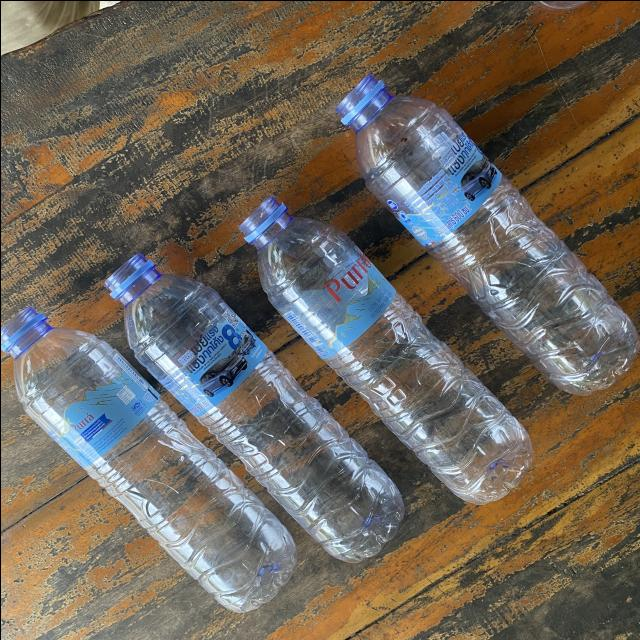plastik: (336, 74, 638, 395), (104, 252, 403, 562), (0, 306, 296, 612), (239, 196, 531, 503)
